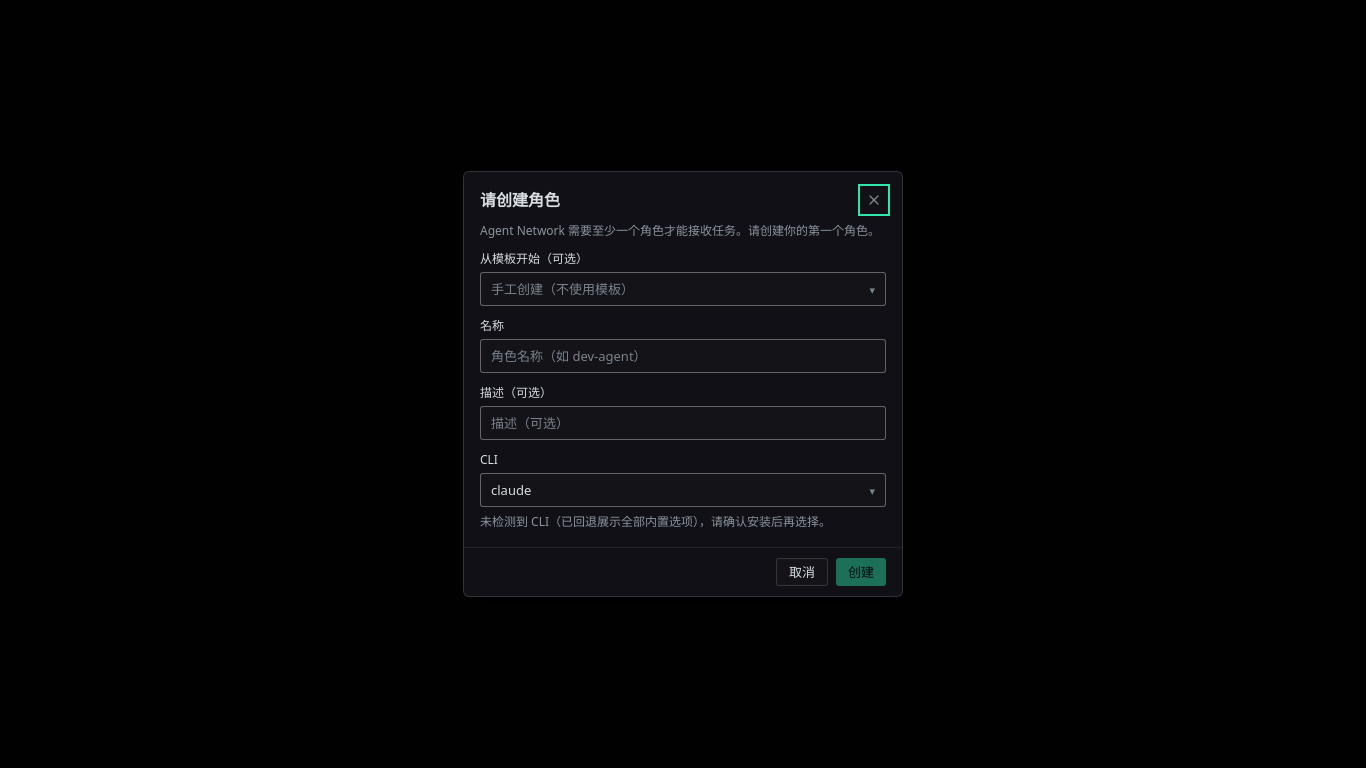
Test: FirstRoleSetupModal (AC-2.3) › 创建失败（createAgent 拒绝）-> 内联报错留窗，不关窗不进引导步
The image size is (1366, 768).
Type "dev-agent" into the field with test id "role-form-name".
click(683, 356); type("dev-agent")  # box left=480, top=339, right=886, bottom=373
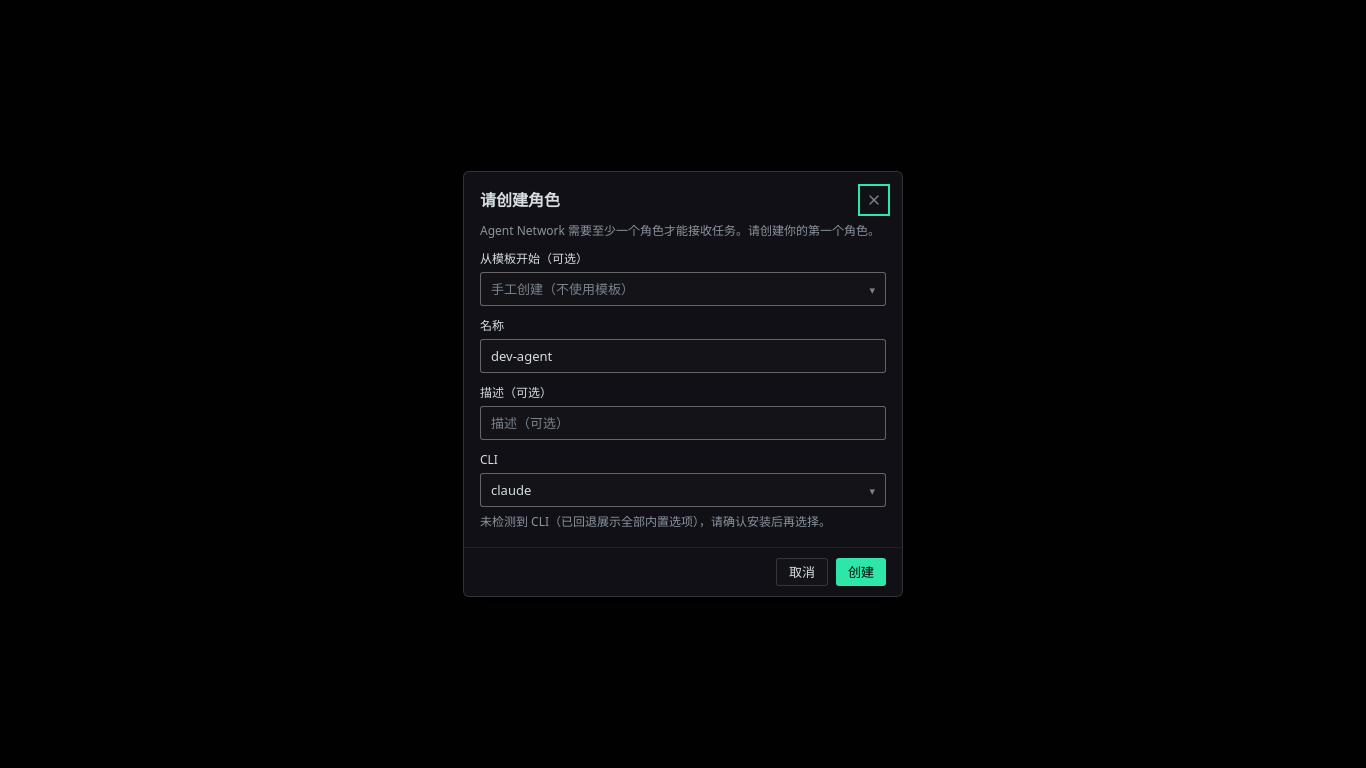
Click the button with test id "create-role-submit".
click(861, 572)  # box left=836, top=558, right=886, bottom=586
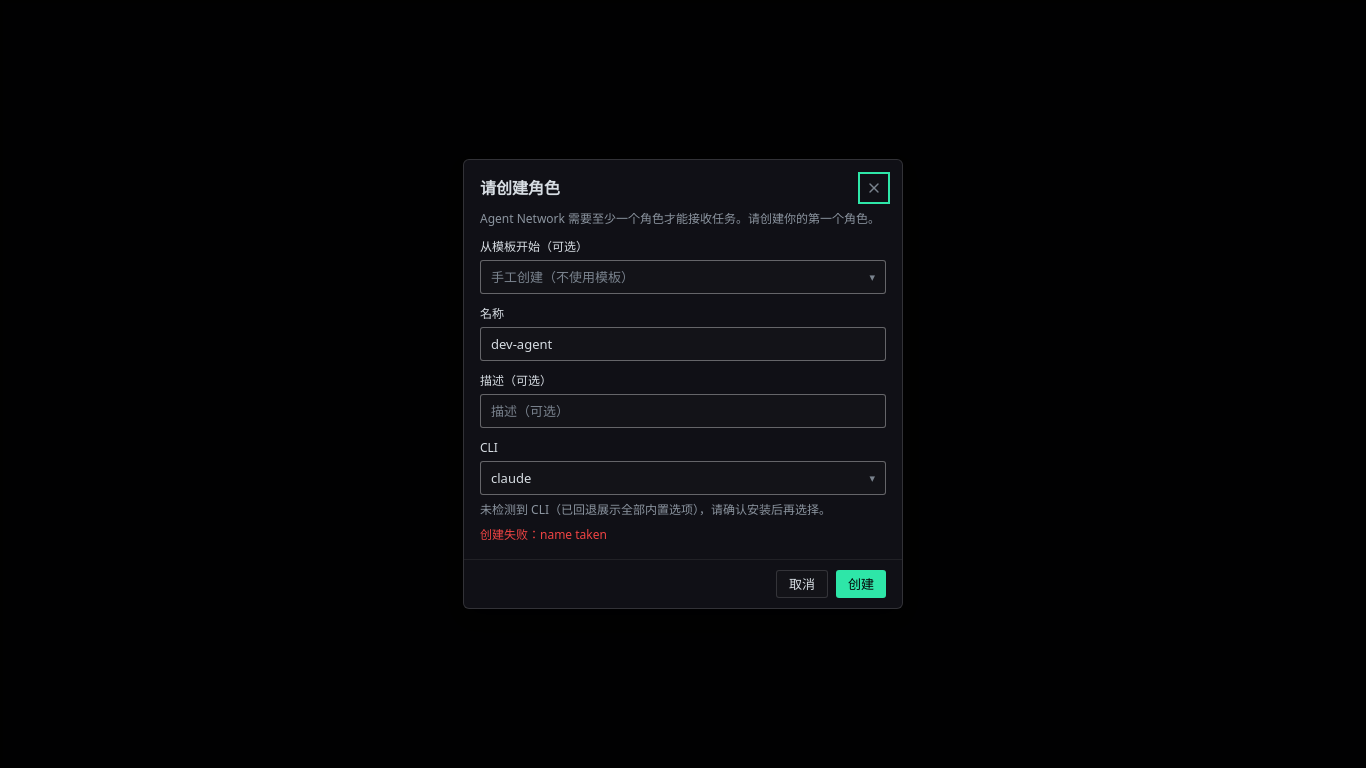
Expected: the text "创建失败：name taken" is shown, left=480, top=526, right=607, bottom=543
